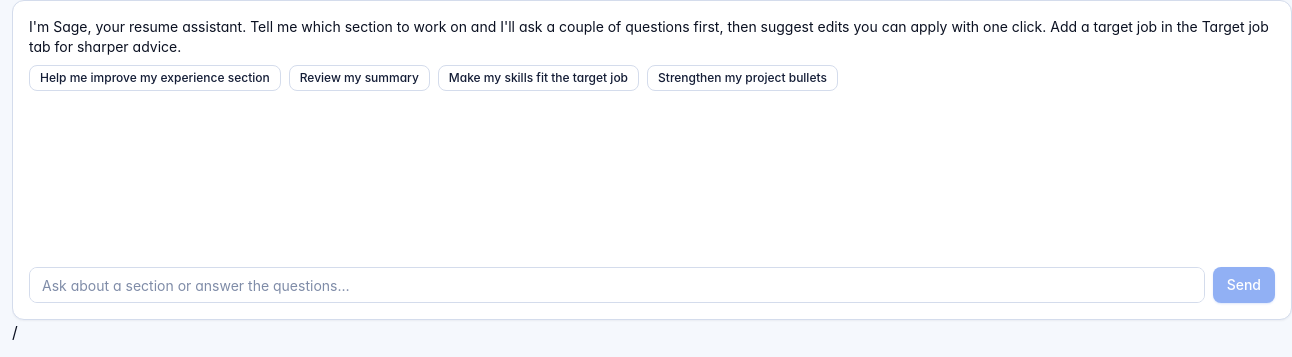
Scenario: agent chat: formatting requests › explains itself instead of dumping JSON when there is nothing it can apply
Type "indent line 3 by exactly 4 spaces" into the text box named "message the resume counselor" at [617, 285], box [29, 267, 1205, 303]
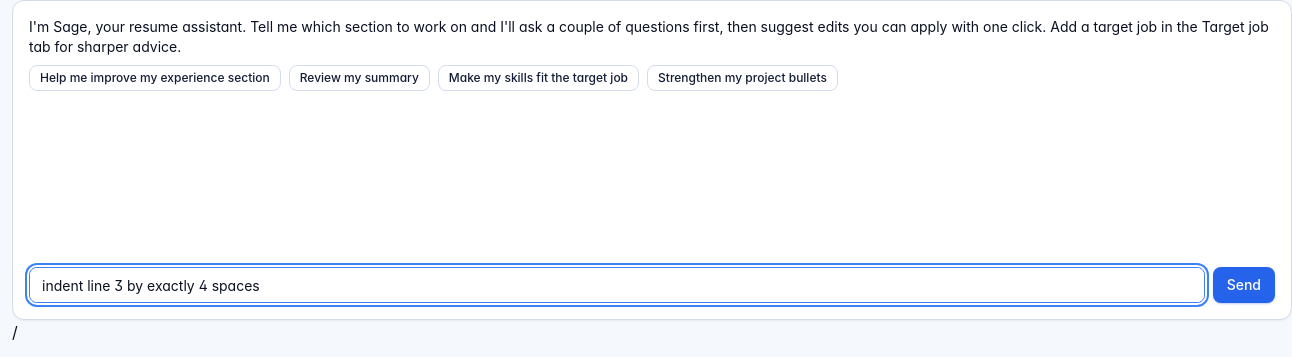
Click the button "Send" at [1244, 285], box [1213, 267, 1275, 303]
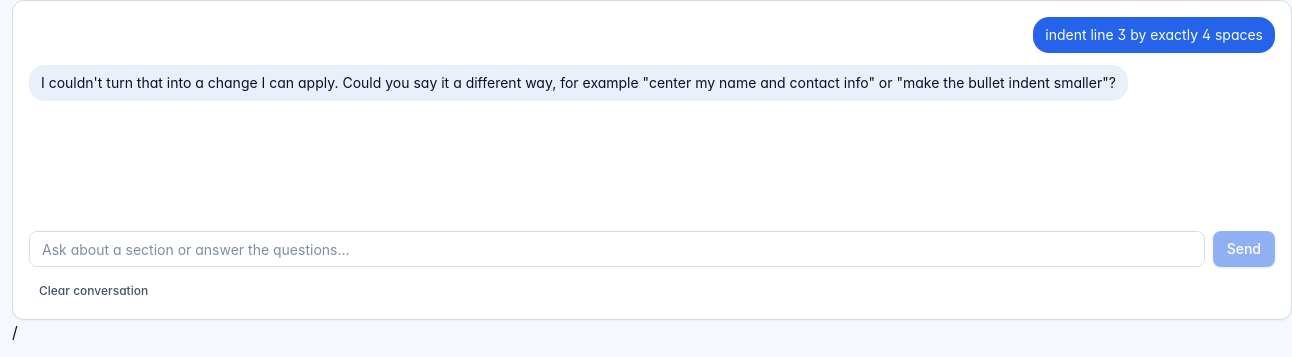
Check: the text "couldn't turn that into a change" is shown, box [41, 74, 1116, 91]
